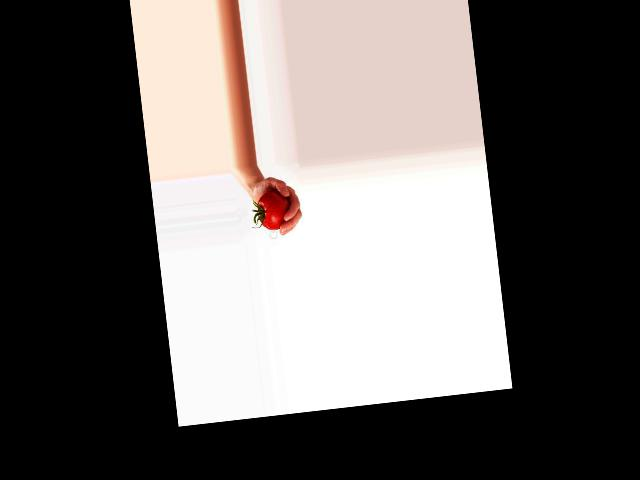tomato: (255, 190, 292, 231)
